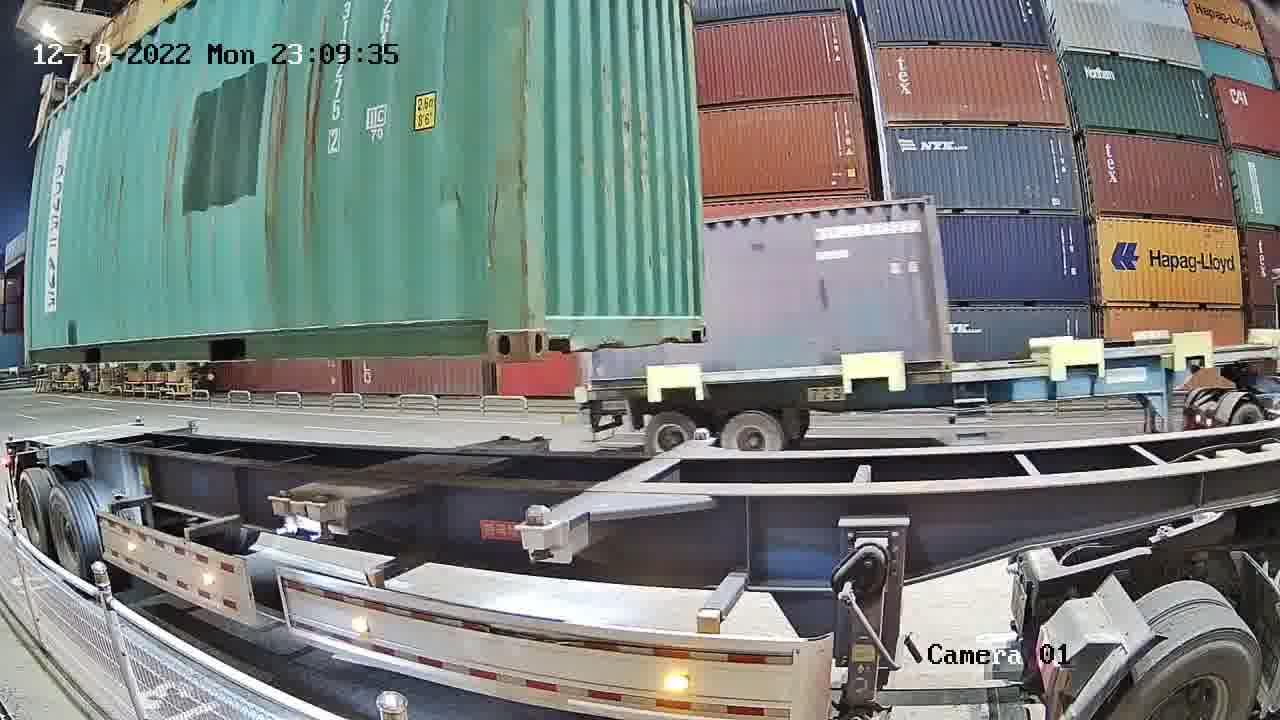Chassis: (519, 441, 714, 563)
Cone: (523, 503, 553, 564), (690, 425, 713, 442)
Hole_L: (527, 293, 582, 360)
Hole_R: (449, 293, 527, 360), (678, 307, 708, 343)
Tire: (50, 488, 89, 581), (18, 473, 49, 552)
